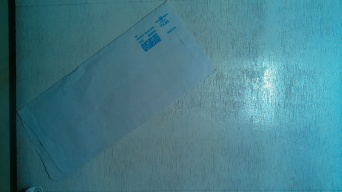l: (17, 9, 216, 178)
